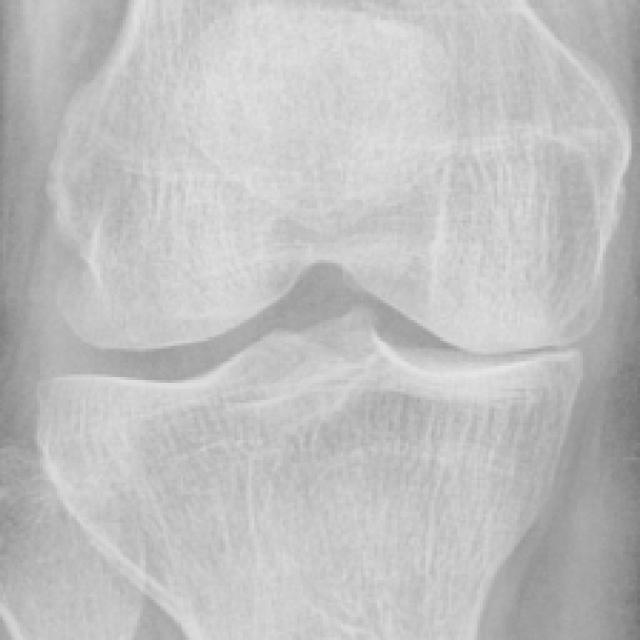femur: (48, 1, 632, 354)
tibia: (40, 311, 584, 637)
